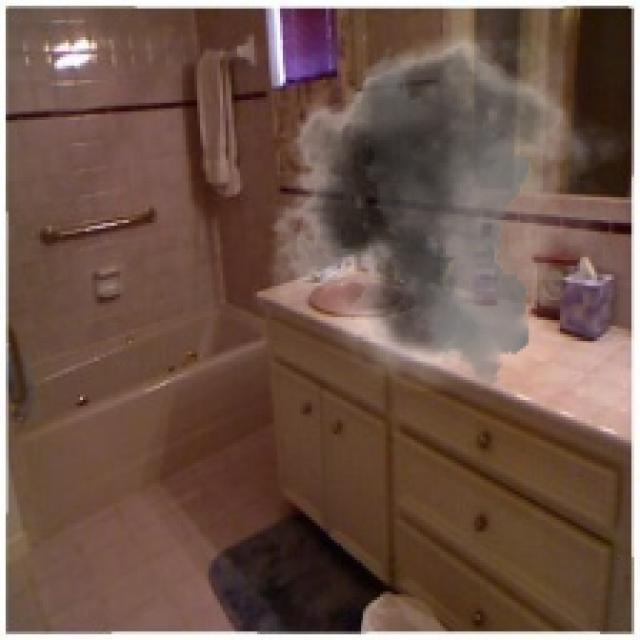Smoke: (252, 14, 632, 392)
